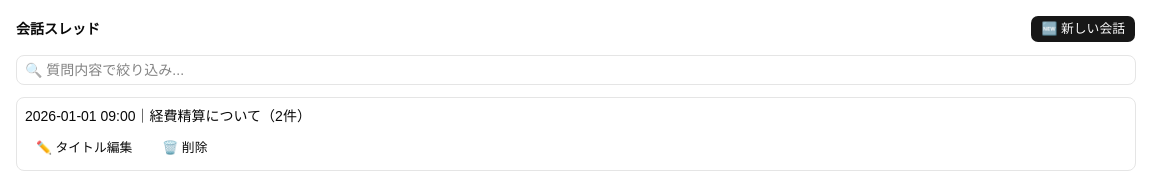
Scenario: ThreadPanel › 該当するスレッドが無い場合は案内文を表示する
Expected: the button "2026-01-01 09:00｜経費精算について（2件）" is shown, [25,106,1127,126]
Type "存在しないキーワード" into the field with placeholder "🔍 質問内容で絞り込み..." at point(576, 70), box [16,55,1136,85]
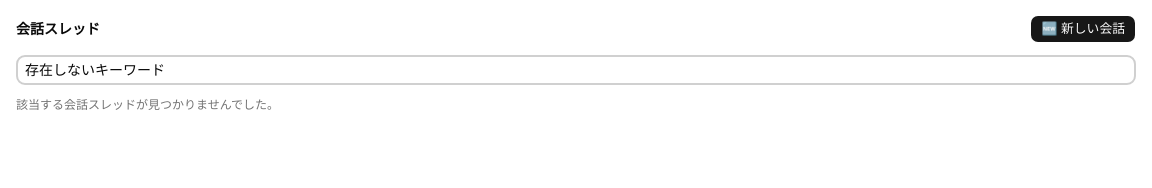
Expected: the text "該当する会話スレッドが見つかりませんでした。" is shown, [16,98,279,112]
